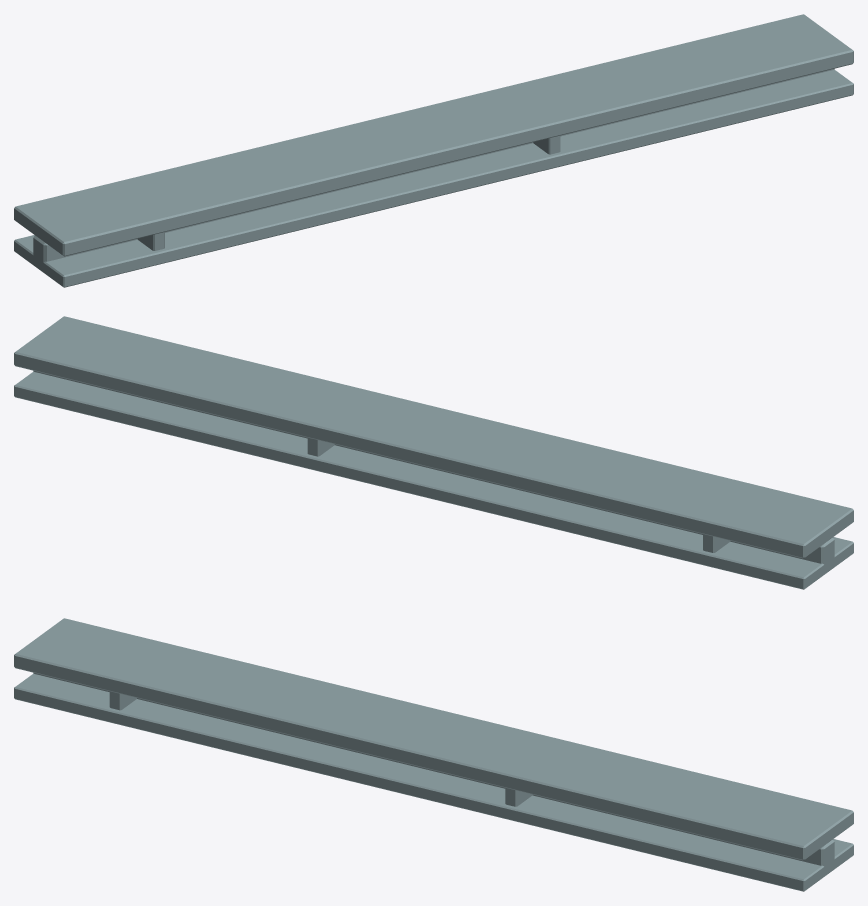
The model's file is RoadPlan_DeckStructure_L4_Girder_1.glb.
3 renders of one model, top to bottom at view 1: azimuth 30°, elevation 25°; view 2: azimuth 150°, elevation 25°; view 3: azimuth 330°, elevation 25°, orthographic.
Parts seen in each view (by area): view 1: RoadPlan_DeckStructure_L4_Girder_1; view 2: RoadPlan_DeckStructure_L4_Girder_1; view 3: RoadPlan_DeckStructure_L4_Girder_1.
Boxes of the visible parts, left/top/right/bottom form: RoadPlan_DeckStructure_L4_Girder_1: left=14, top=14, right=853, bottom=287; RoadPlan_DeckStructure_L4_Girder_1: left=14, top=316, right=853, bottom=589; RoadPlan_DeckStructure_L4_Girder_1: left=14, top=618, right=853, bottom=891.
Bounding box in the file's own units: 4 × 0.22 × 0.44.
